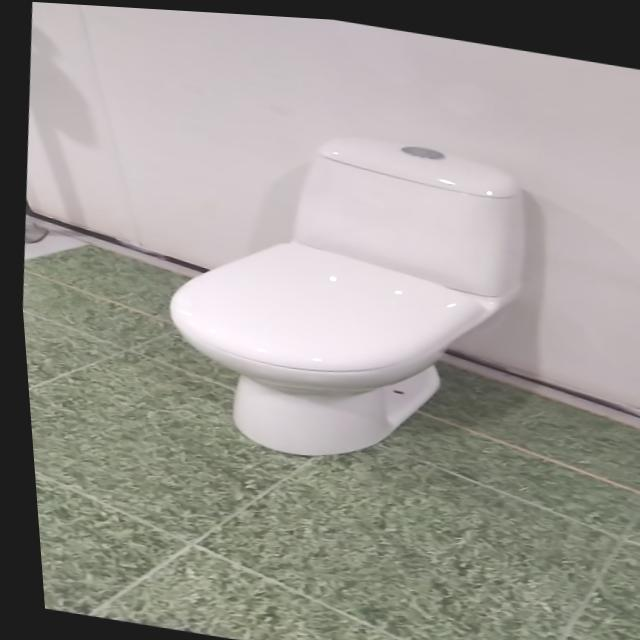toilet: (139, 101, 547, 487)
